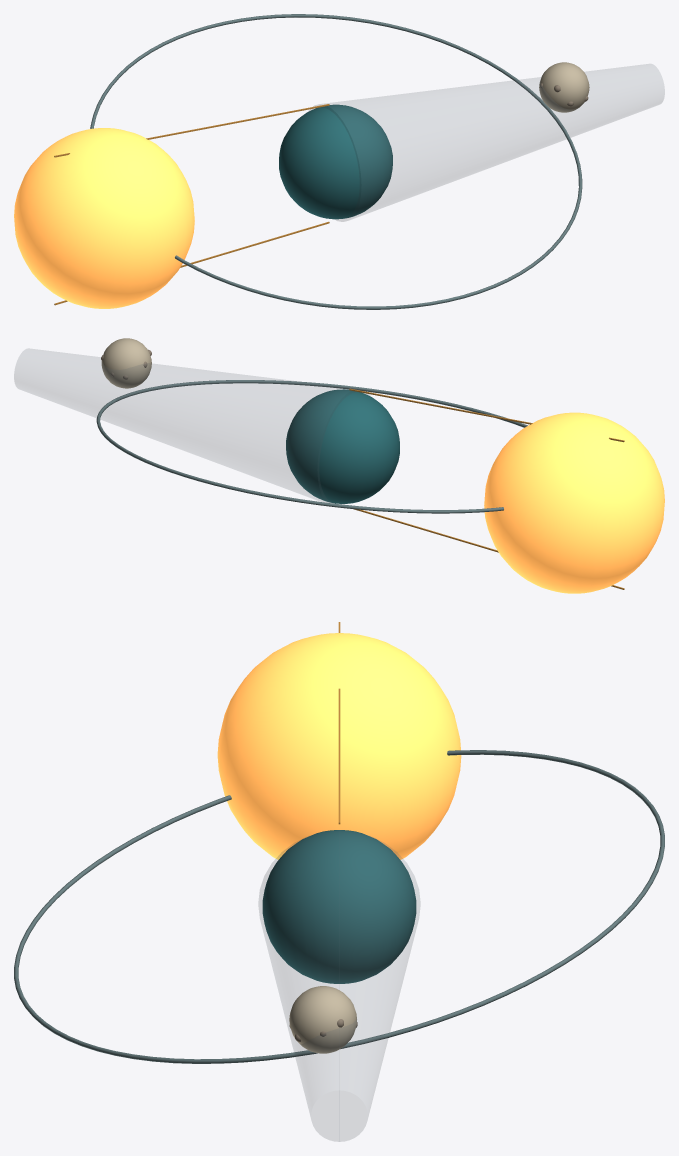
The model's file is umbra.glb.
3 renders of one model, top to bottom at view 1: azimuth 30°, elevation 25°; view 2: azimuth 150°, elevation 25°; view 3: azimuth 270°, elevation 25°, orthographic. The views are drawn at different scales.
Visible parts, largest first — view 1: umbra; view 2: umbra; view 3: umbra.
Part boxes in pixels (x1,y1,x2,y2): umbra: [14, 14, 664, 309]; umbra: [14, 338, 664, 593]; umbra: [14, 622, 664, 1141].
Size of the model in its own units: 4.81 by 1.2 by 3.2.
